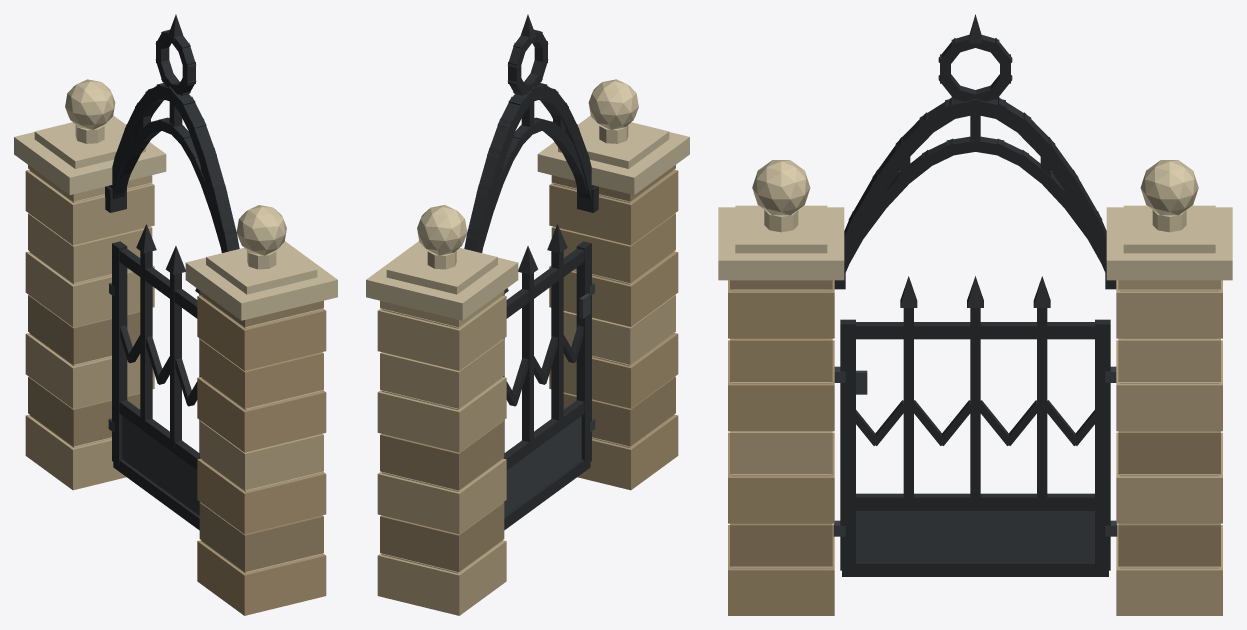
The model's file is lwf_garden_gate_iron_v1.glb.
The picture shows the model from 3 angles, left to right: view 1: azimuth 30°, elevation 25°; view 2: azimuth 150°, elevation 25°; view 3: azimuth 270°, elevation 25°; orthographic projection. The views are drawn at different scales.
Visible parts, largest first — view 1: LWF_GardenGate_Piers, LWF_GardenGate_Leaf; view 2: LWF_GardenGate_Piers, LWF_GardenGate_Leaf; view 3: LWF_GardenGate_Piers, LWF_GardenGate_Leaf.
Part boxes in pixels (x1,y1,x2,y2): LWF_GardenGate_Piers: [14, 14, 337, 615]; LWF_GardenGate_Leaf: [112, 224, 200, 530]; LWF_GardenGate_Piers: [366, 14, 689, 615]; LWF_GardenGate_Leaf: [503, 224, 591, 530]; LWF_GardenGate_Piers: [718, 14, 1232, 615]; LWF_GardenGate_Leaf: [840, 276, 1110, 576].
Bounding box in the file's own units: 0.52 × 2.63 × 2.12.
1 material, 1 textured.
